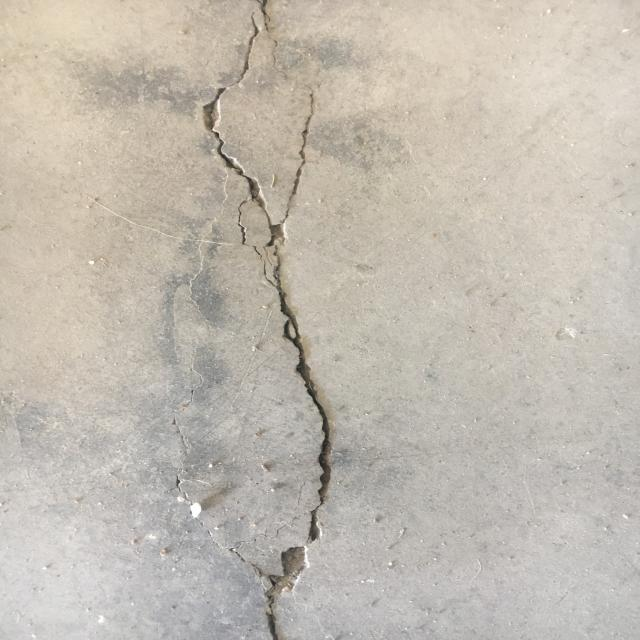Rachadura: (197, 0, 332, 640)
